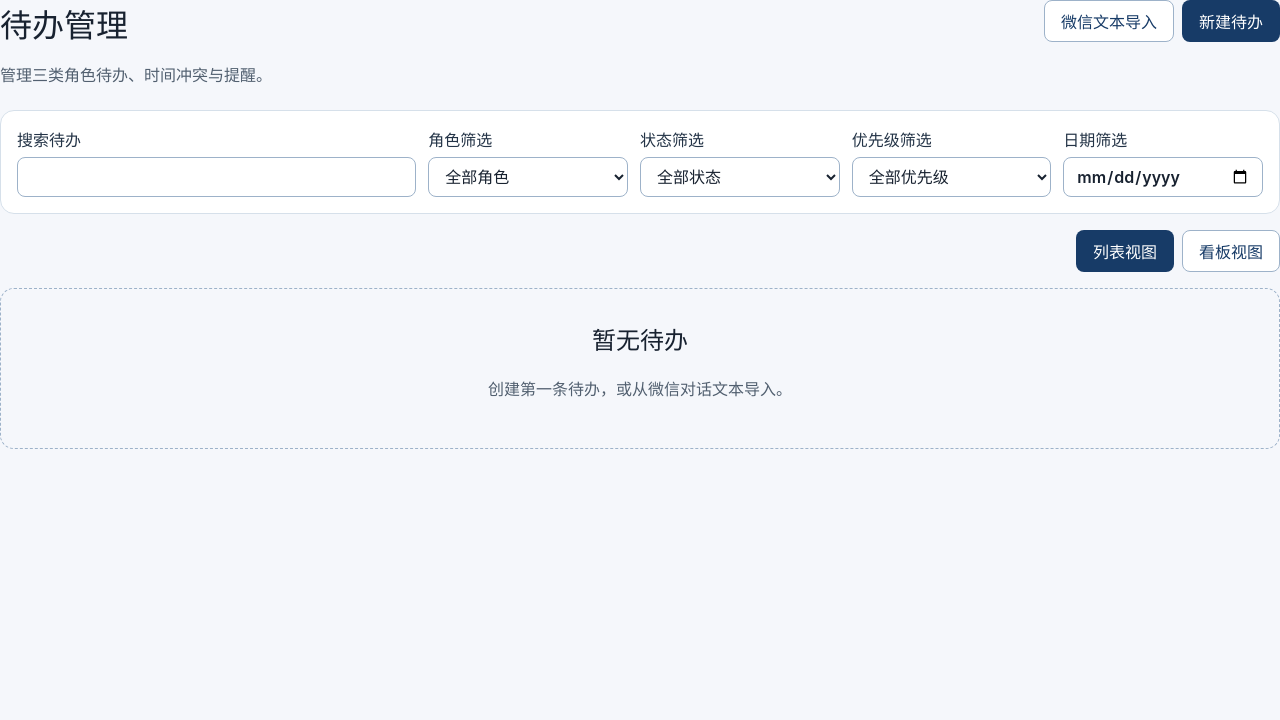
Test: TodoPage › blocks saving when the conflict snapshot cannot be read
The image size is (1280, 720).
Click the button "新建待办" at {"x": 1231, "y": 21}, box [1182,0,1279,42]
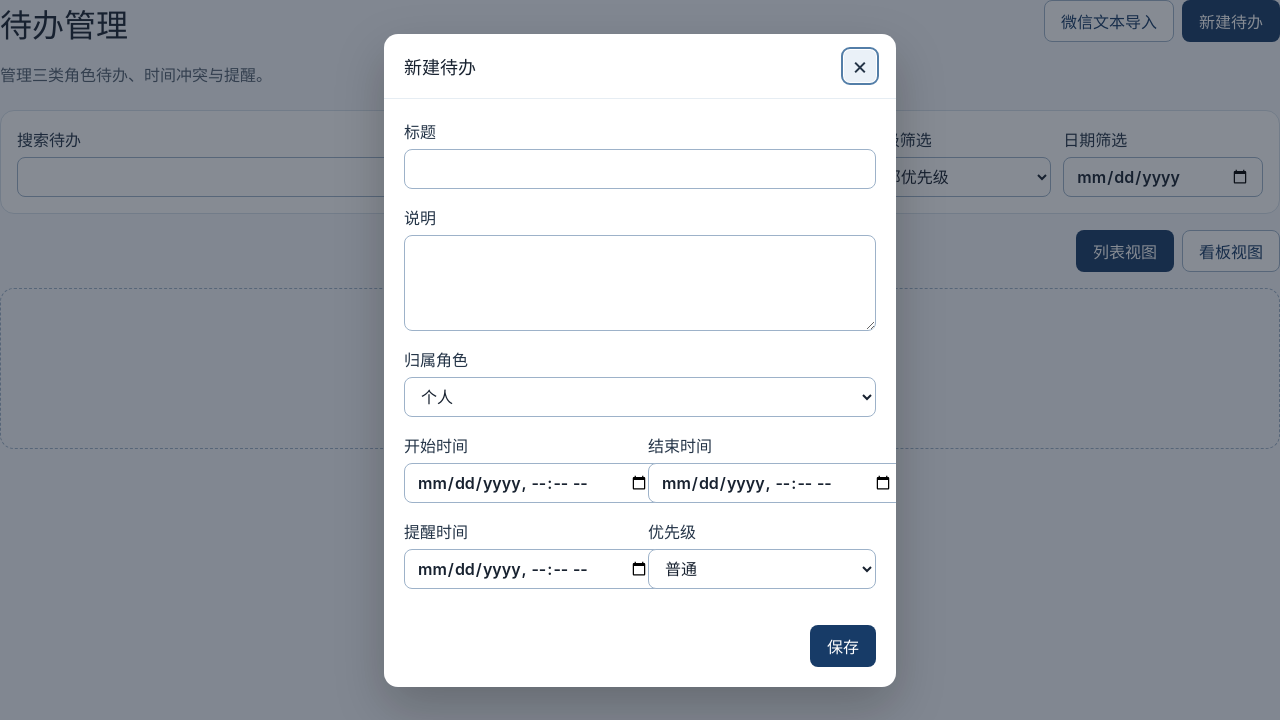
Type "不应保存" into the field labelled "标题" at {"x": 640, "y": 168}, box [404,148,876,188]
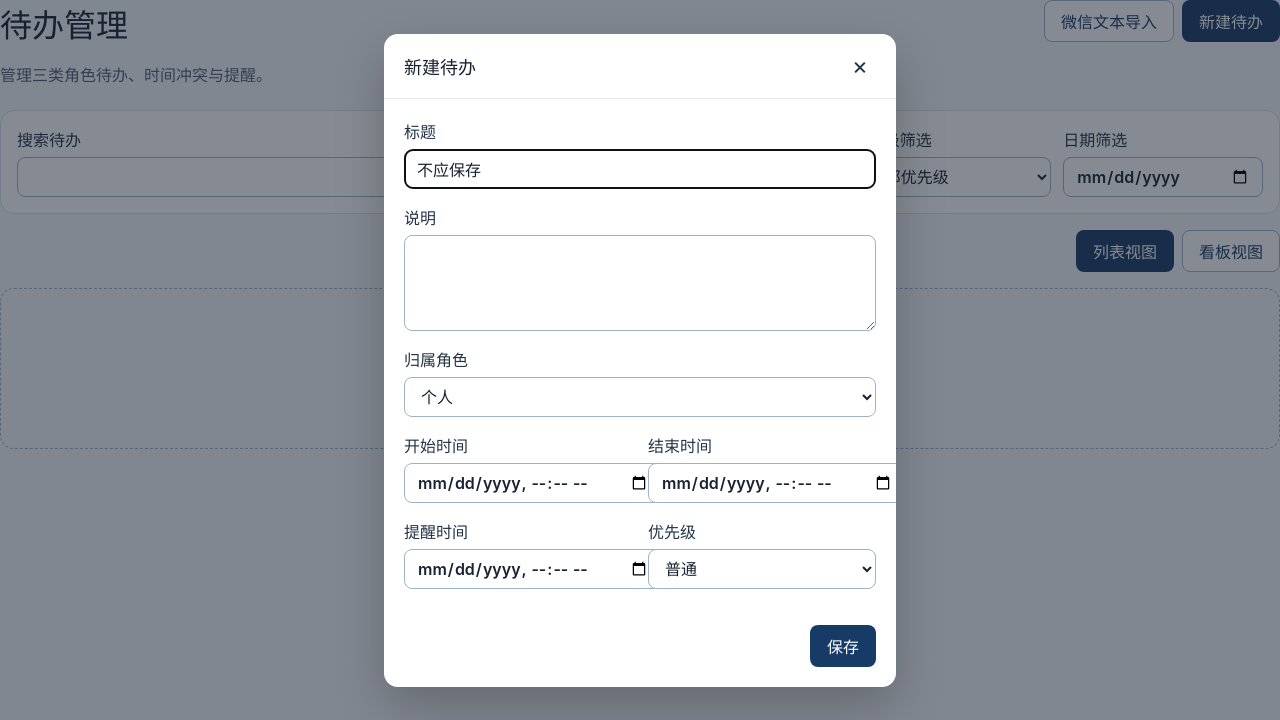
Type "2026-08-10T09:30" into the field labelled "开始时间" at {"x": 533, "y": 482}, box [404,462,662,502]
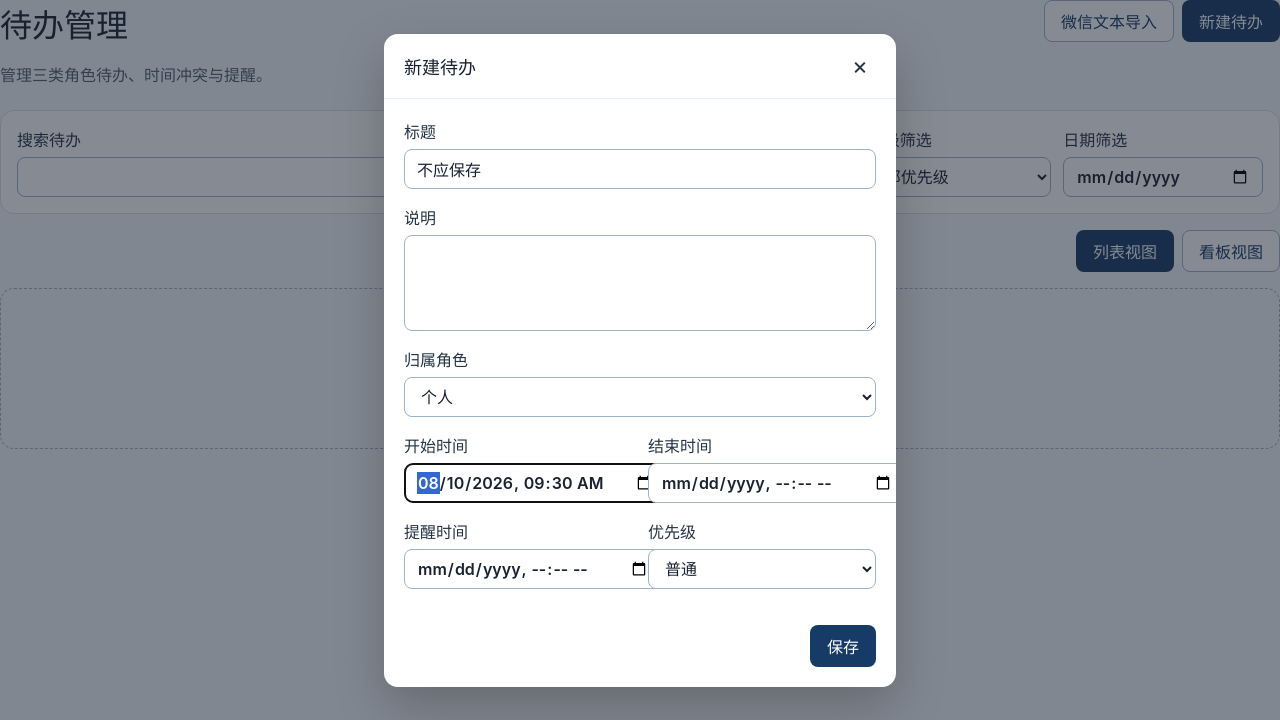
Click the button "保存" at {"x": 843, "y": 646}, box [810,624,876,666]
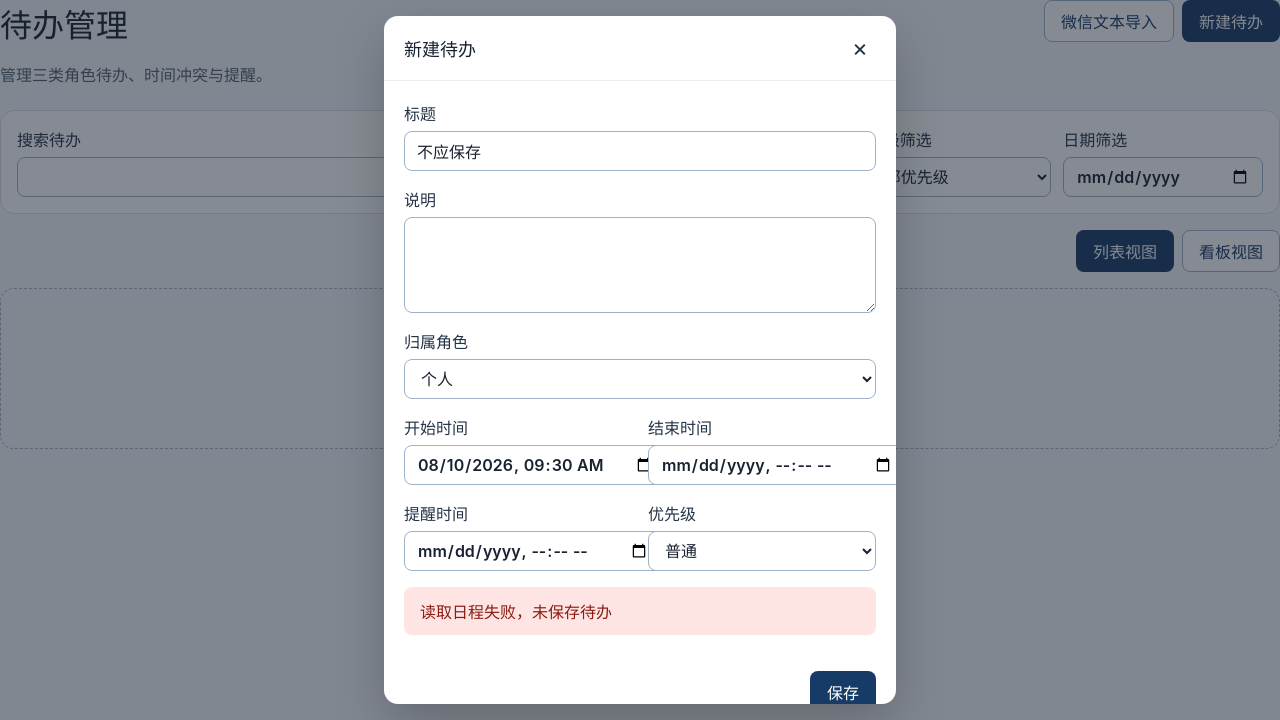
Result: the text "读取日程失败，未保存待办" is shown at [420,602,612,622]
